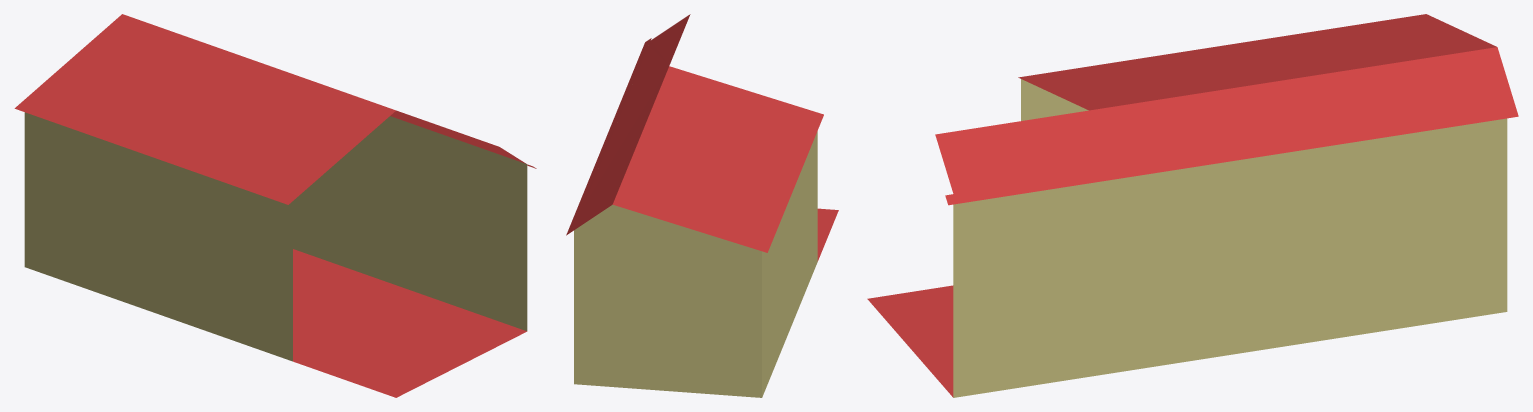
3 renders of one model, left to right at view 1: azimuth 30°, elevation 25°; view 2: azimuth 150°, elevation 25°; view 3: azimuth 270°, elevation 25°, orthographic. The views are drawn at different scales.
Size of the model in its own units: 13.08 by 18.48 by 7.59.
